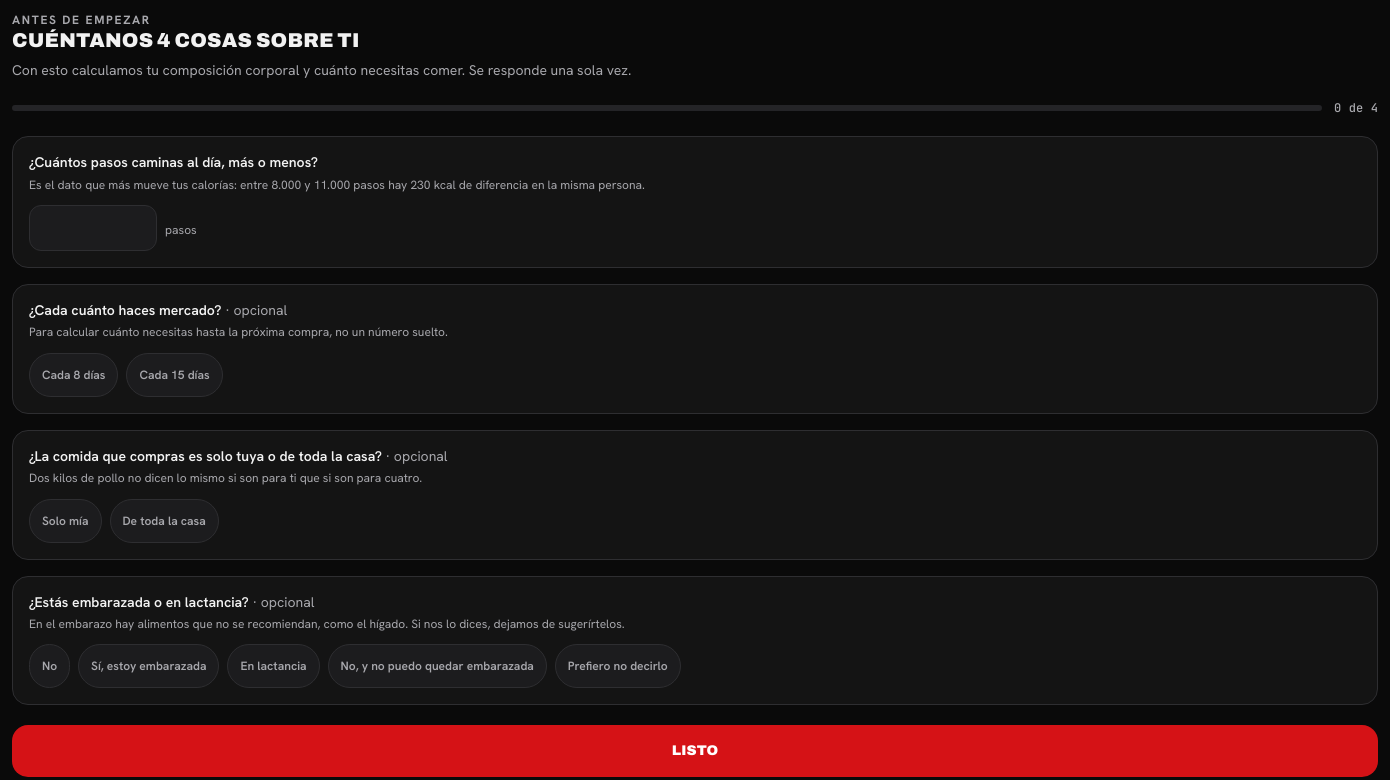
EncuestaNutricion › al terminar › no deja seguir con lo obligatorio en blanco
Step 1. Click the button "Listo" → click(695, 751), box [12, 725, 1378, 777]
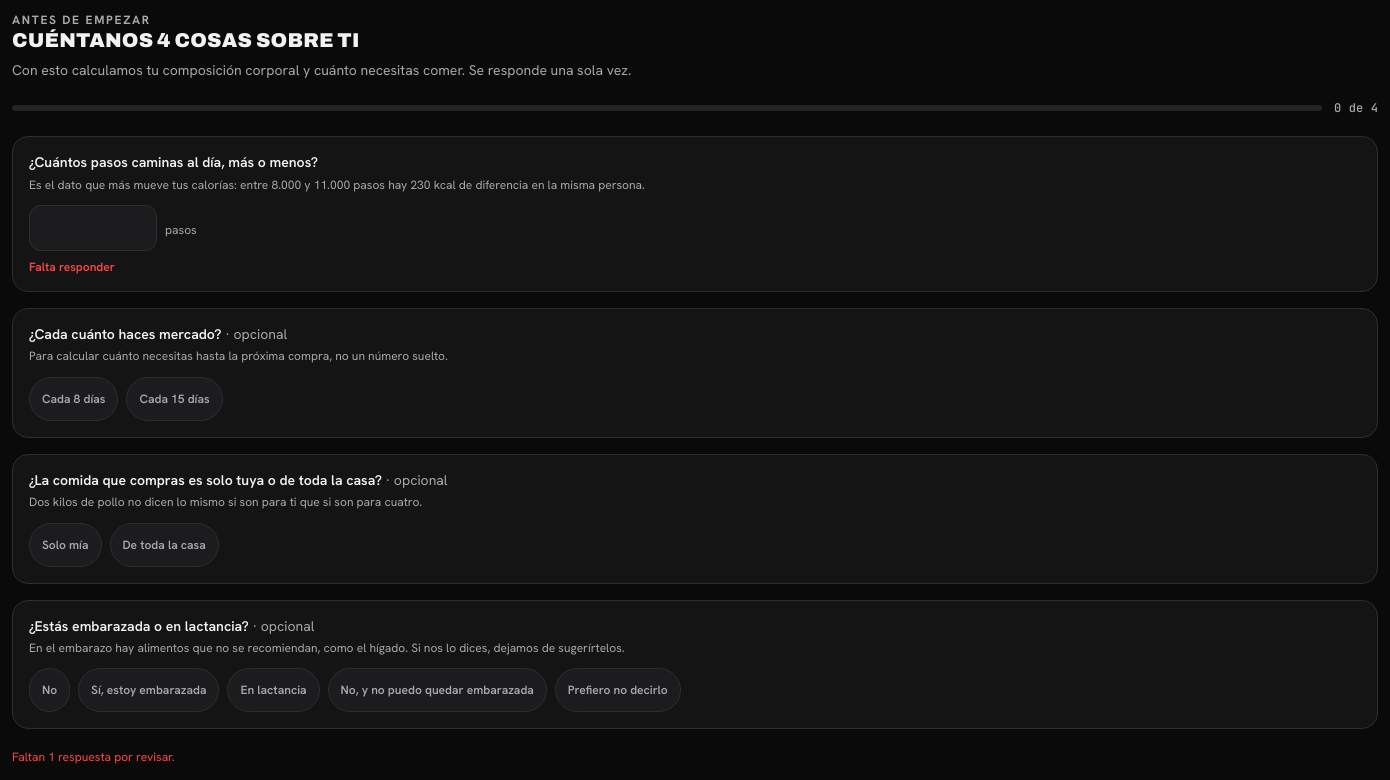
expect the message "Faltan 1 respuesta por revisar." is shown: met, box [12, 749, 175, 765]
